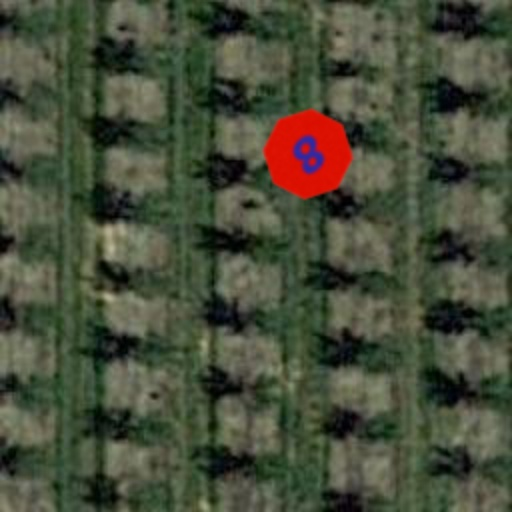octagon: (242, 88, 374, 220)
